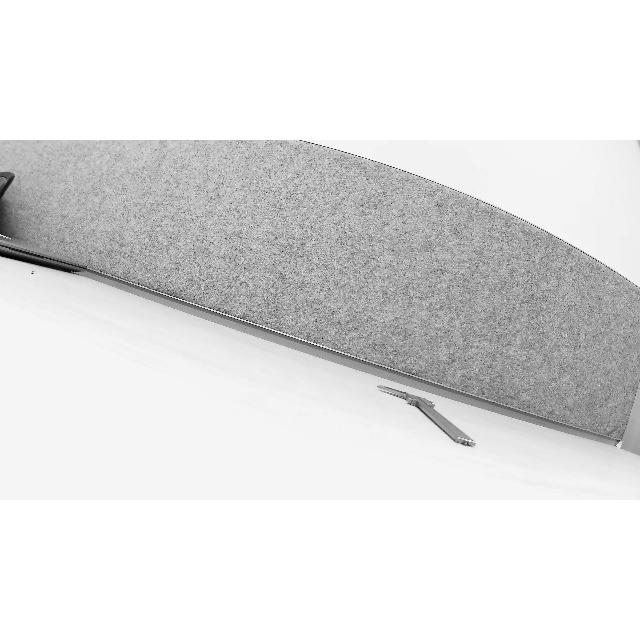targets: (380, 386, 482, 442)
